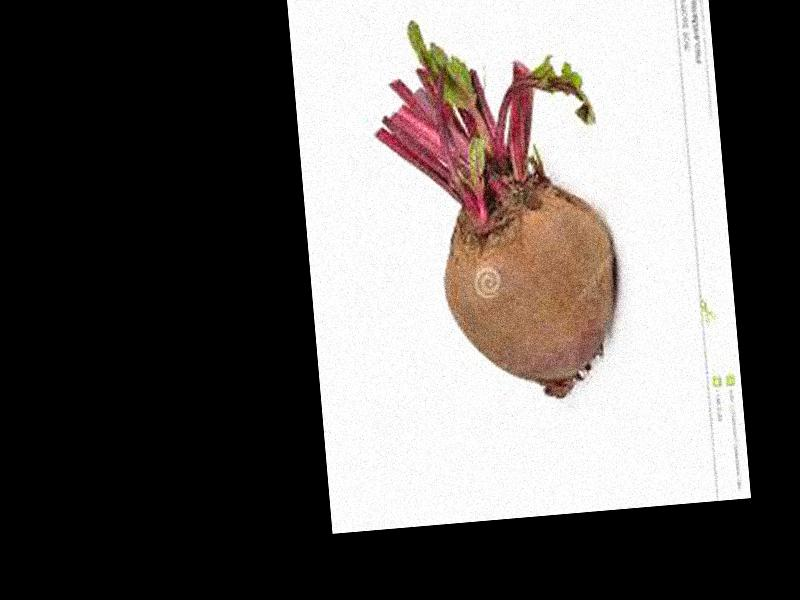Beet: (368, 8, 623, 412)
